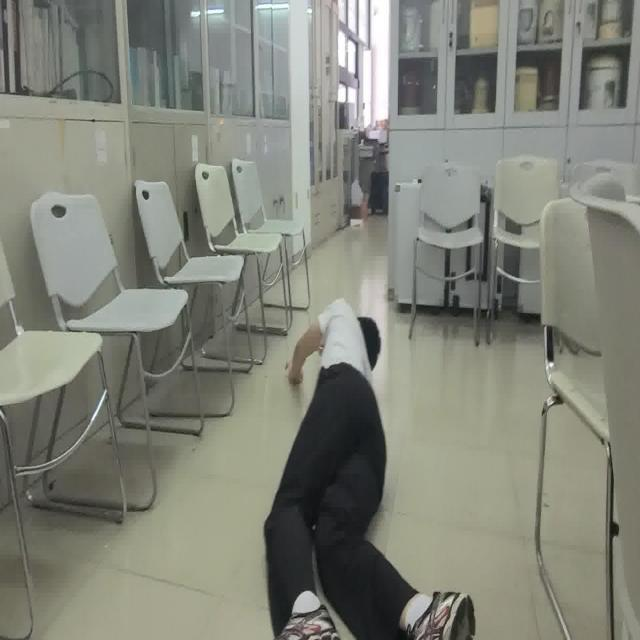fall: (258, 294, 478, 640)
